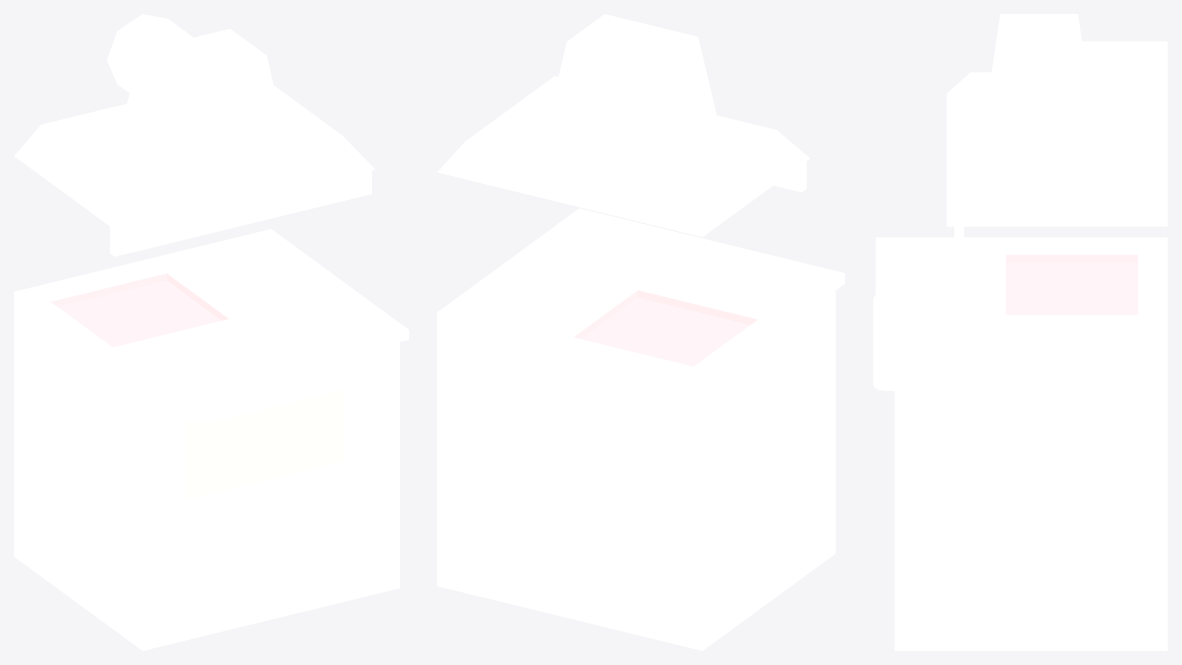
The model's file is Household_Assets_Counter_Oven_Overhang.glb.
The picture shows the model from 3 angles, left to right: view 1: azimuth 30°, elevation 25°; view 2: azimuth 150°, elevation 25°; view 3: azimuth 270°, elevation 25°; orthographic projection. The views are drawn at different scales.
Parts seen in each view (by area): view 1: Kitchen_Counter_Oven_Overhang; view 2: Kitchen_Counter_Oven_Overhang; view 3: Kitchen_Counter_Oven_Overhang.
Boxes of the visible parts, left/top/right/bottom form: Kitchen_Counter_Oven_Overhang: left=14, top=14, right=408, bottom=650; Kitchen_Counter_Oven_Overhang: left=437, top=14, right=844, bottom=650; Kitchen_Counter_Oven_Overhang: left=873, top=14, right=1167, bottom=650.
Bounding box in the file's own units: 1.02 × 1.96 × 0.9553.
